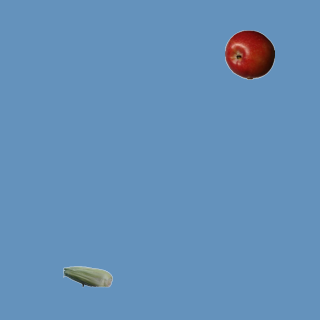Apple Braeburn: (224, 29, 274, 79)
Corn Husk: (62, 251, 112, 301)
